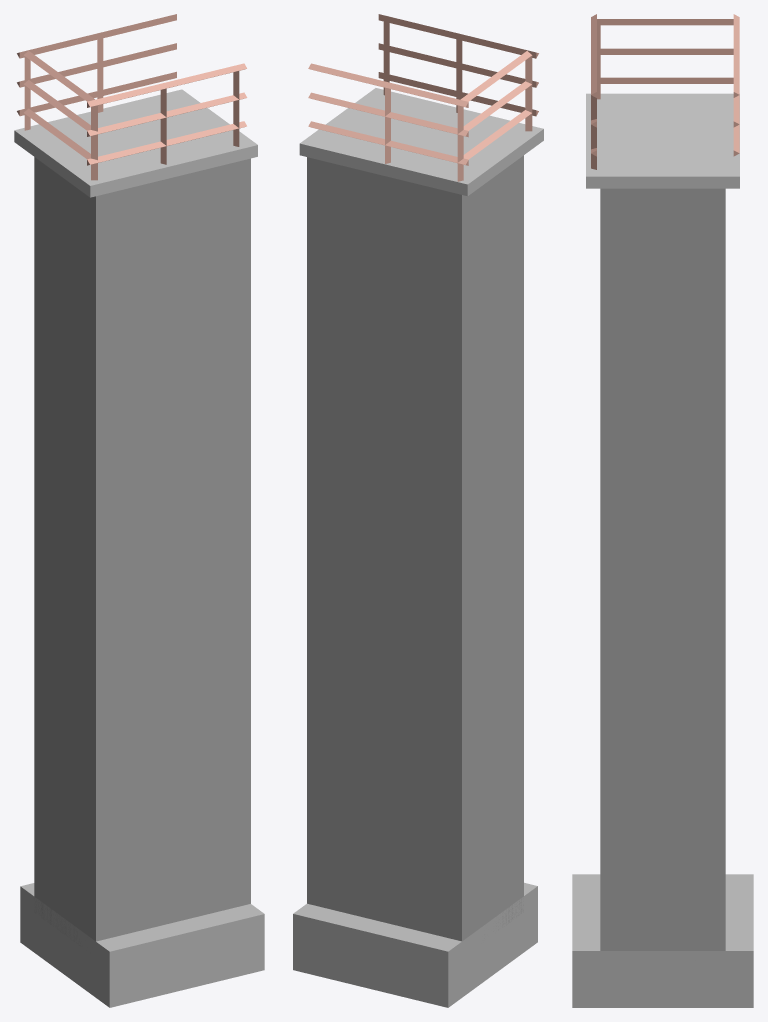
The model's file is wall.fbx.
The picture shows the model from 3 angles, left to right: view 1: azimuth 30°, elevation 25°; view 2: azimuth 150°, elevation 25°; view 3: azimuth 270°, elevation 25°; orthographic projection.
Visible parts, largest first — view 1: Cylinder; view 2: Cylinder; view 3: Cylinder.
Boxes of the visible parts, x1,y1,x2,y2 form: Cylinder: (14,14,264,1007); Cylinder: (293,14,543,1007); Cylinder: (572,14,753,1007).
Bounding box in the file's own units: 217 × 1110 × 200.
